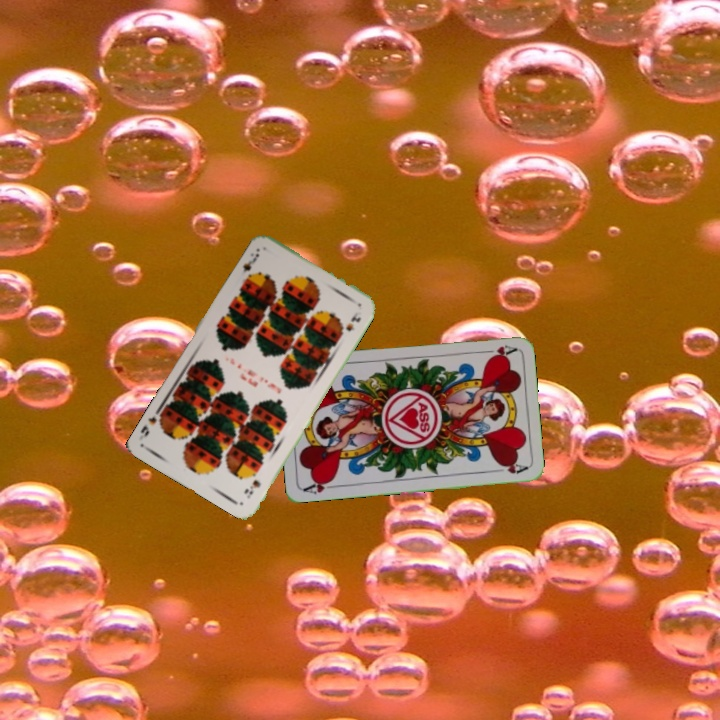HA: (300, 475, 341, 497), (478, 341, 518, 361)
S9: (238, 249, 262, 275), (241, 476, 264, 501)
